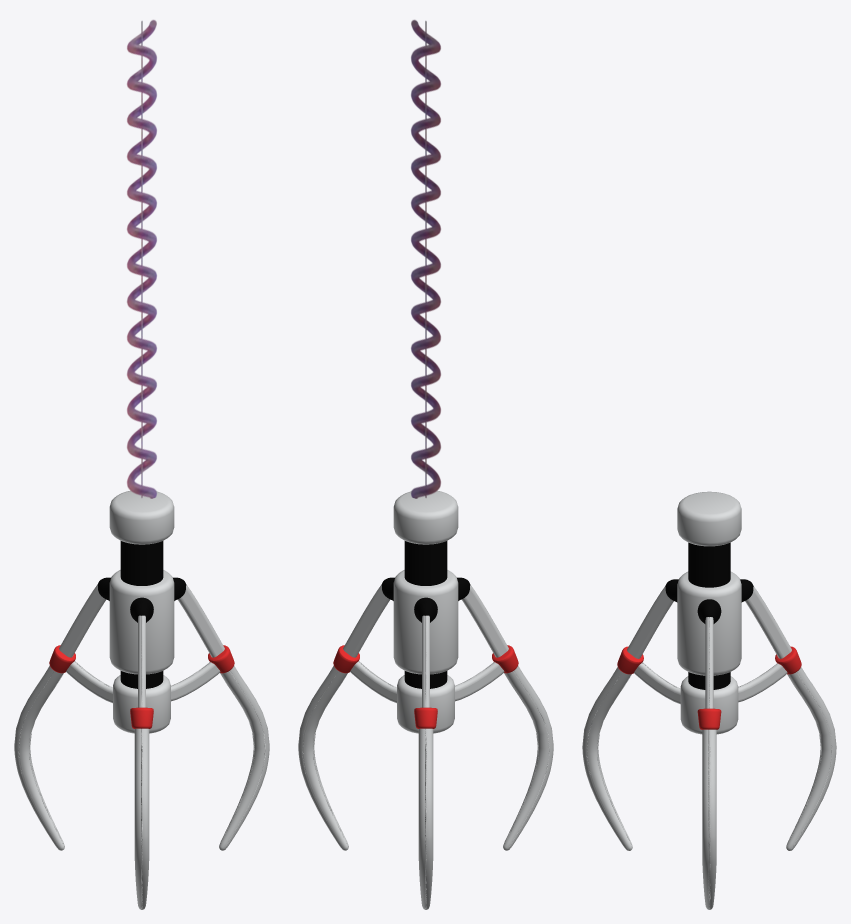
Rendered from Cinnamon-grabber-v2.glb.
3 renders of one model, left to right at view 1: azimuth 30°, elevation 25°; view 2: azimuth 150°, elevation 25°; view 3: azimuth 270°, elevation 25°, orthographic.
Parts seen in each view (by area): view 1: base-metal, helix-rod-plane, Loft006, Loft003, Loft009, ChamferCyl001, base-dark, Loft004, Loft001, Sphere003, Loft002, Loft005 (+1 smaller); view 2: base-metal, helix-rod-plane, Loft009, Loft003, Loft006, ChamferCyl001, base-dark, Loft007, Loft001, Sphere003, Loft008, Loft002 (+1 smaller); view 3: base-metal, Loft006, Loft009, Loft003, ChamferCyl001, base-dark, Loft004, Loft007, Sphere003, Loft001, Loft005, Loft008.
Part boxes in pixels (x1,y1,x2,y2): base-metal: (109, 490, 174, 674); helix-rod-plane: (127, 19, 156, 498); Loft006: (14, 665, 64, 850); Loft003: (219, 665, 269, 850); Loft009: (134, 728, 149, 909); ChamferCyl001: (113, 675, 170, 733); base-dark: (120, 541, 163, 585); Loft004: (59, 585, 106, 657); Loft001: (177, 585, 224, 657); Sphere003: (97, 577, 186, 622); Loft002: (171, 662, 220, 701); Loft005: (66, 661, 112, 703); base-metal: (393, 490, 458, 674); helix-rod-plane: (411, 19, 440, 498); Loft009: (503, 665, 553, 850); Loft003: (298, 665, 348, 850); Loft006: (418, 728, 433, 909); ChamferCyl001: (397, 675, 454, 733); base-dark: (404, 541, 447, 585); Loft007: (461, 585, 508, 657); Loft001: (343, 585, 390, 657); Sphere003: (381, 577, 470, 622); Loft008: (455, 662, 504, 701); Loft002: (350, 661, 396, 703); base-metal: (677, 491, 741, 675); Loft006: (786, 667, 836, 850); Loft009: (582, 667, 632, 850); Loft003: (702, 729, 716, 909); ChamferCyl001: (680, 676, 738, 734); base-dark: (688, 542, 730, 587); Loft004: (745, 586, 791, 658); Loft007: (627, 586, 673, 658); Sphere003: (665, 579, 753, 623); Loft001: (705, 617, 713, 708); Loft005: (738, 663, 787, 702); Loft008: (634, 662, 680, 704).
Size of the model in its own units: 0.138 by 0.5813 by 0.158.
Materials: 4 (1 with a texture image).
